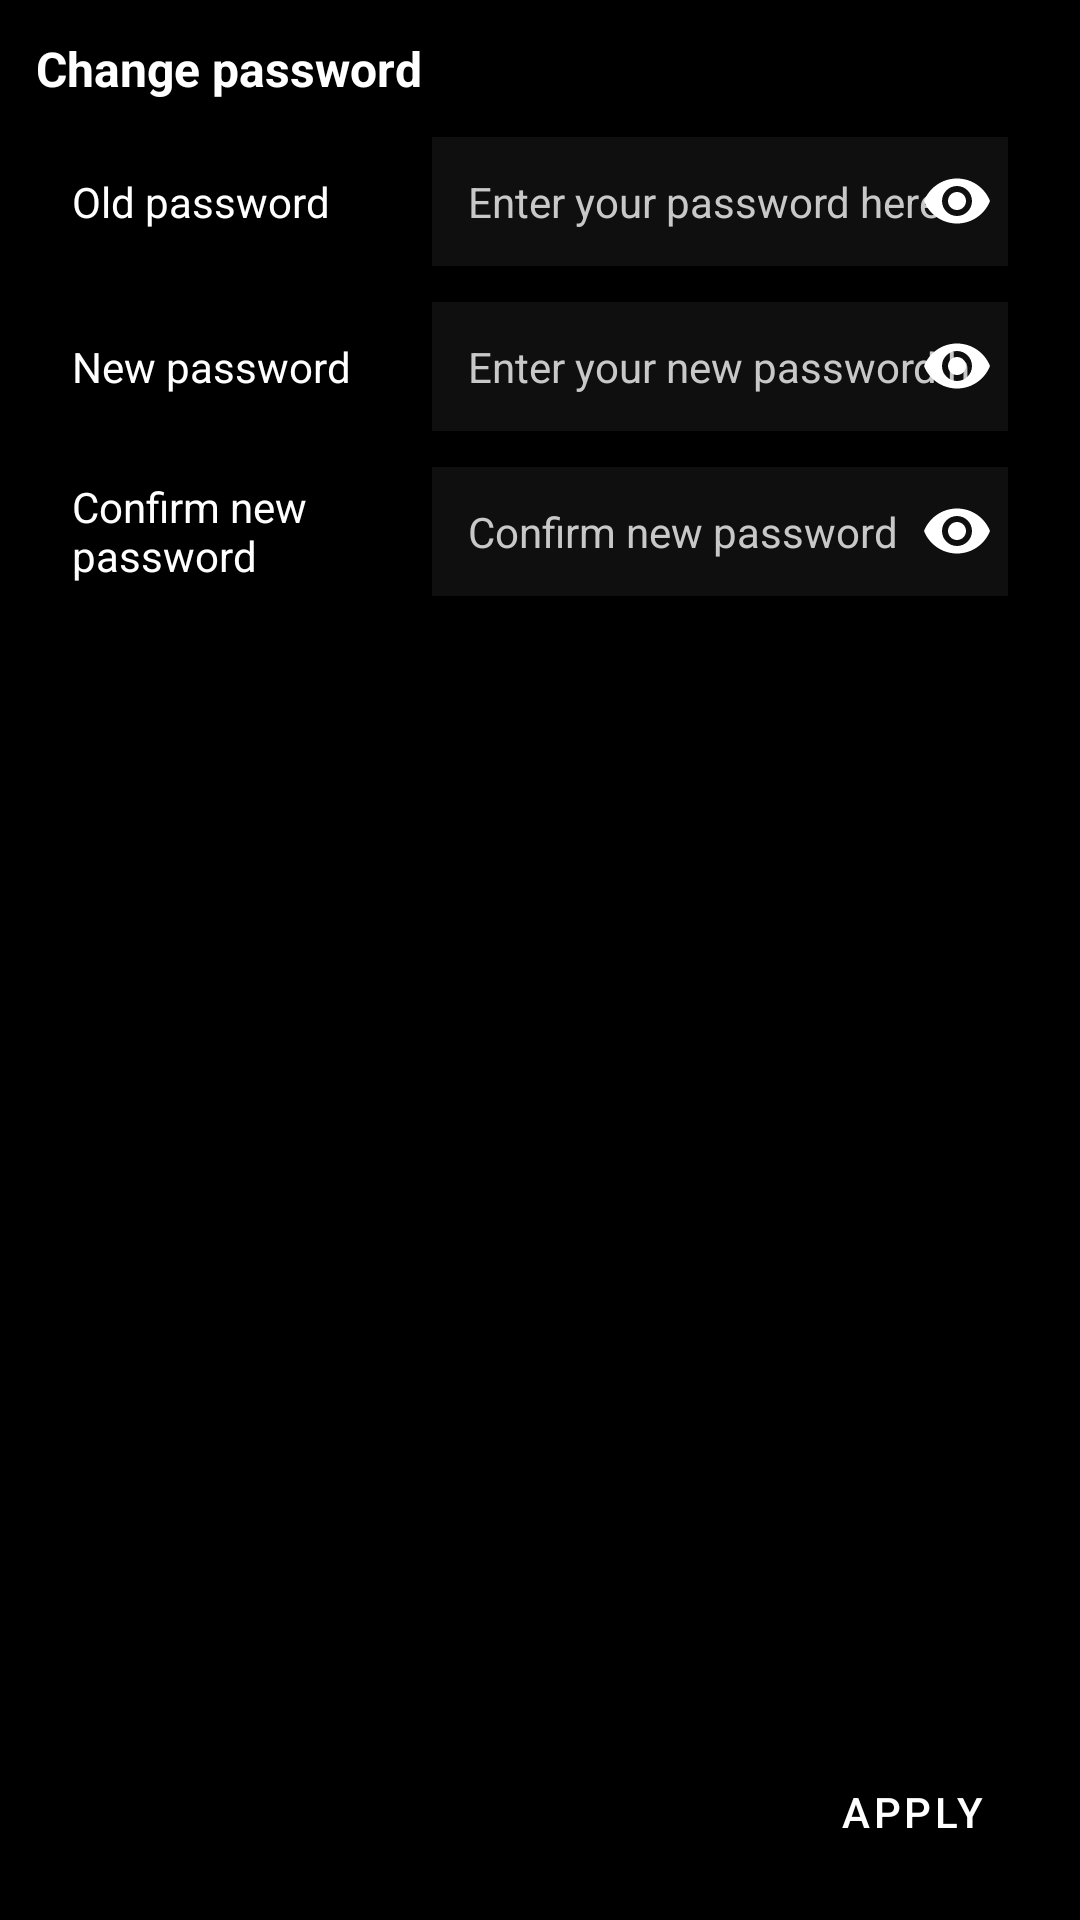

Icons on this 1080px×1920px Android screen, each with its box as (x1, y1, x2, y2):
showpw: (921, 178, 990, 224), (921, 343, 990, 389), (924, 508, 990, 554)
